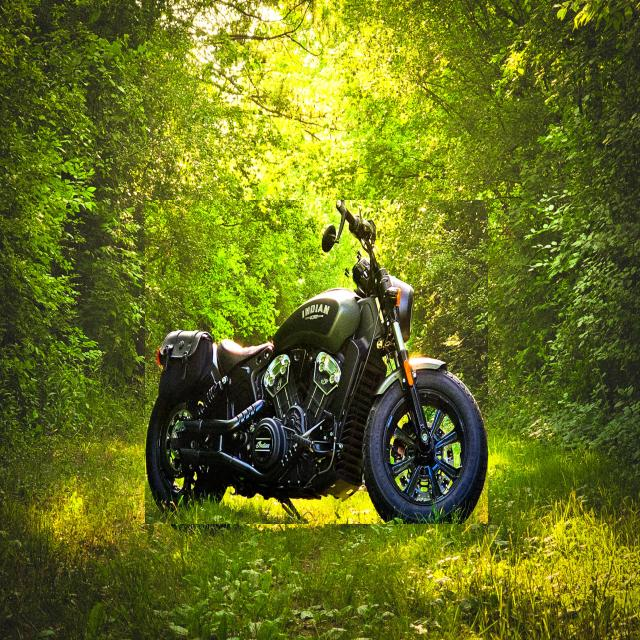motorcycle: (145, 200, 488, 524)
